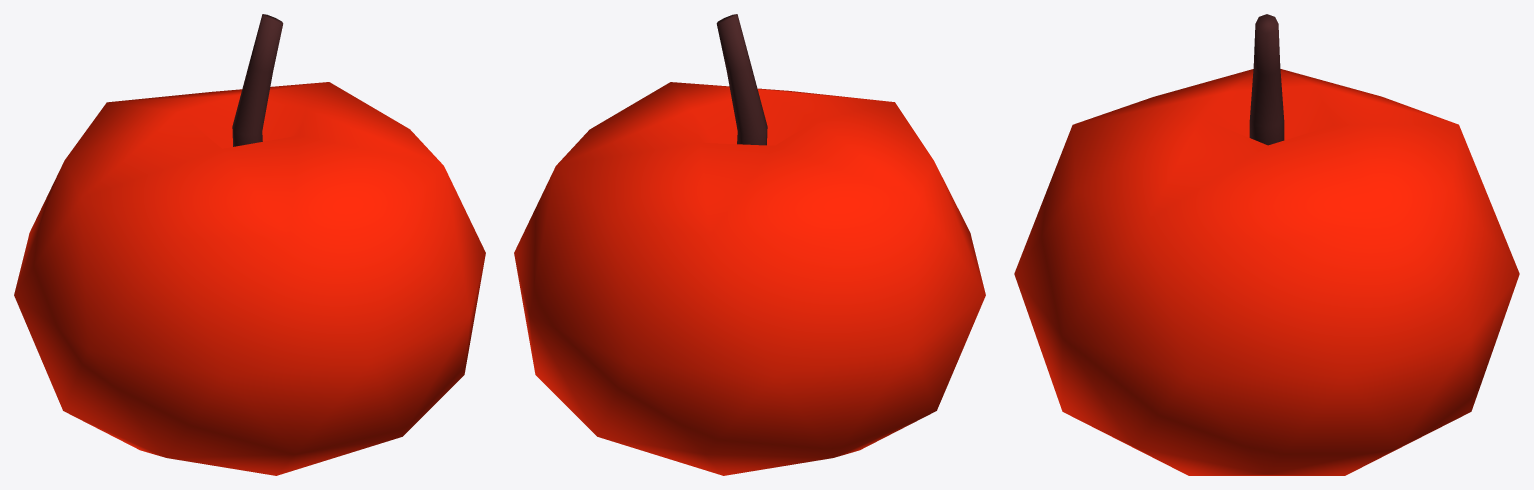
Rendered from apple_low_poly.fbx.
The picture shows the model from 3 angles, left to right: view 1: azimuth 30°, elevation 25°; view 2: azimuth 150°, elevation 25°; view 3: azimuth 270°, elevation 25°; orthographic projection. The views are drawn at different scales.
Visible parts, largest first — view 1: Cylinder.005; view 2: Cylinder.005; view 3: Cylinder.005.
Boxes of the visible parts, x1=… form: Cylinder.005: x1=14, y1=14, x2=485, y2=475; Cylinder.005: x1=514, y1=14, x2=985, y2=475; Cylinder.005: x1=1014, y1=14, x2=1519, y2=475.
Bounding box in the file's own units: 190 × 200 × 190.
